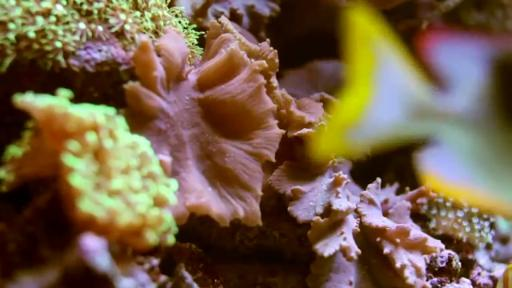Fish: (307, 1, 511, 218), (496, 264, 511, 287)
